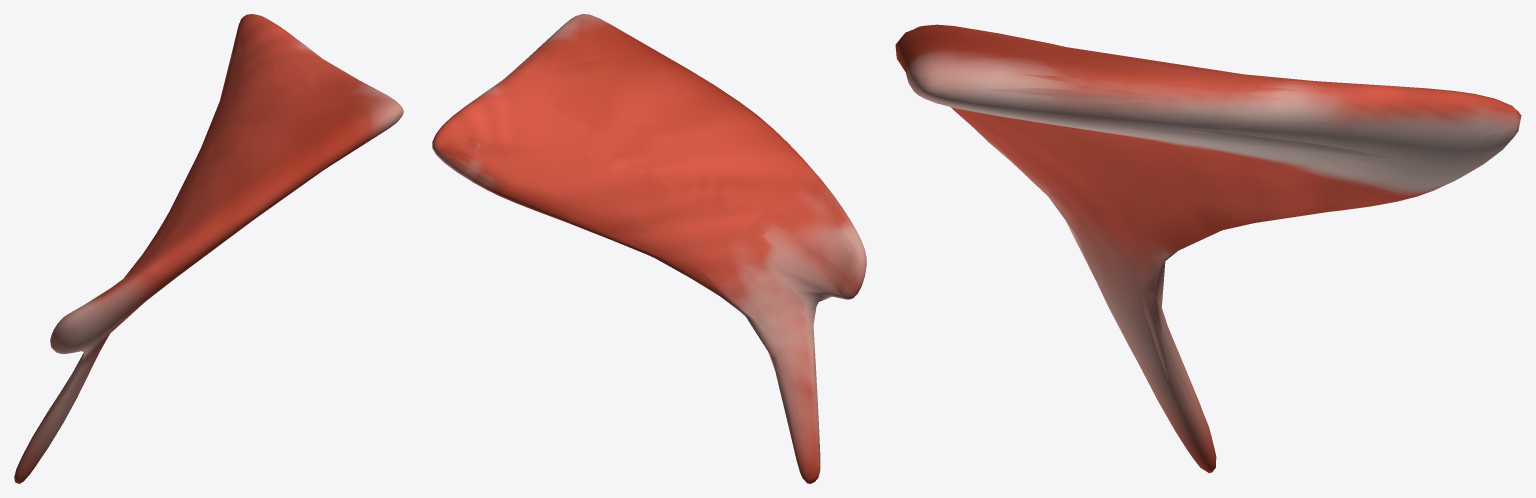
The model's file is R pectoralis superficialis.fbx.
The picture shows the model from 3 angles, left to right: view 1: azimuth 30°, elevation 25°; view 2: azimuth 150°, elevation 25°; view 3: azimuth 270°, elevation 25°; orthographic projection. The views are drawn at different scales.
Parts seen in each view (by area): view 1: R pectoralis superficialis, R pectoralis superficialis low; view 2: R pectoralis superficialis, R pectoralis superficialis low; view 3: R pectoralis superficialis, R pectoralis superficialis low.
Boxes of the visible parts, x1,y1,x2,y2 form: R pectoralis superficialis: [14, 14, 403, 483]; R pectoralis superficialis low: [35, 18, 374, 433]; R pectoralis superficialis: [432, 14, 866, 483]; R pectoralis superficialis low: [436, 27, 863, 482]; R pectoralis superficialis: [895, 24, 1521, 472]; R pectoralis superficialis low: [895, 27, 1513, 471].
Size of the model in its own units: 8.66 by 9.08 by 7.4.
